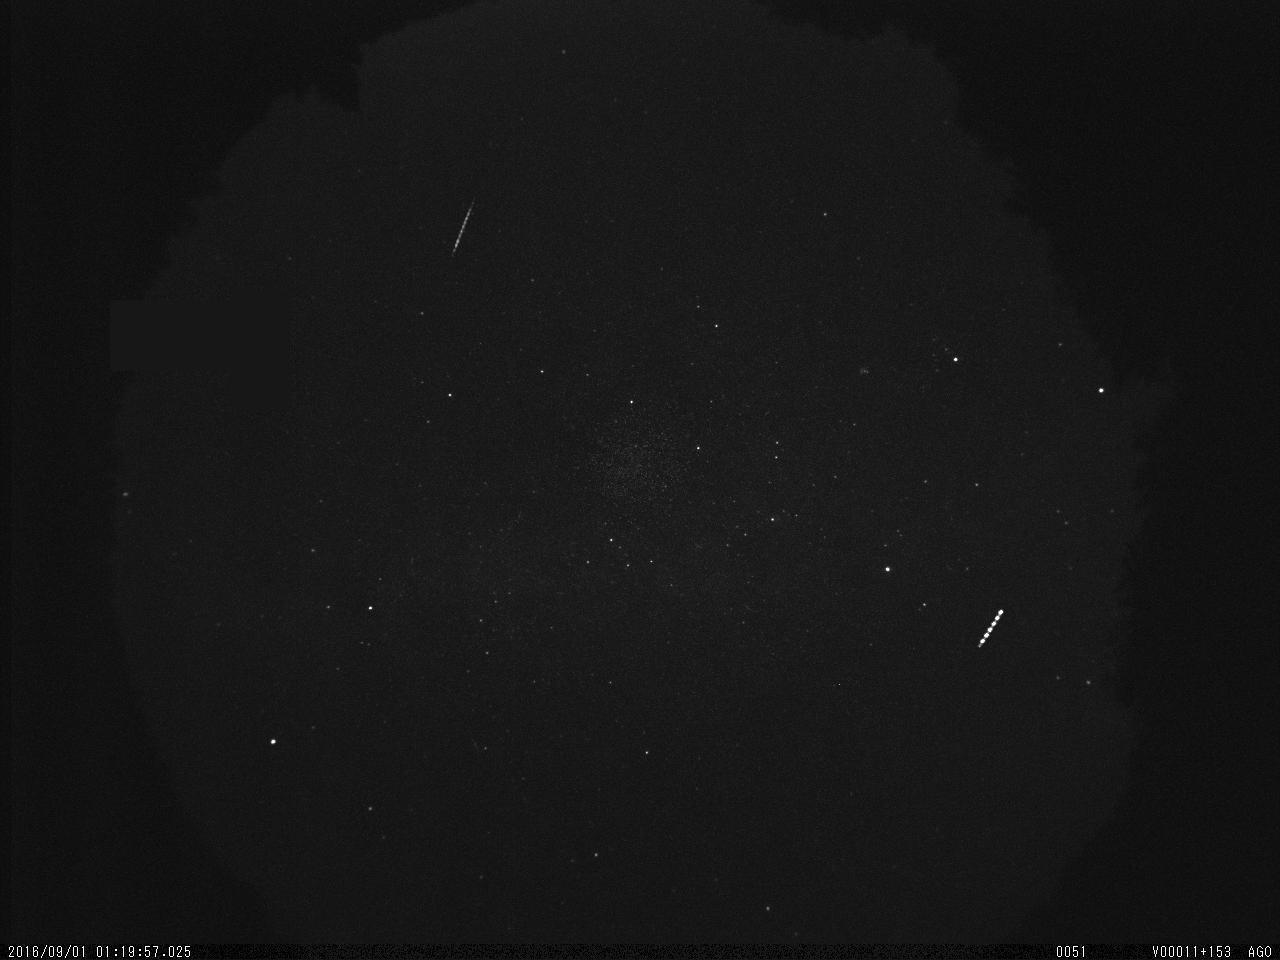Meteor: (445, 194, 478, 269)
